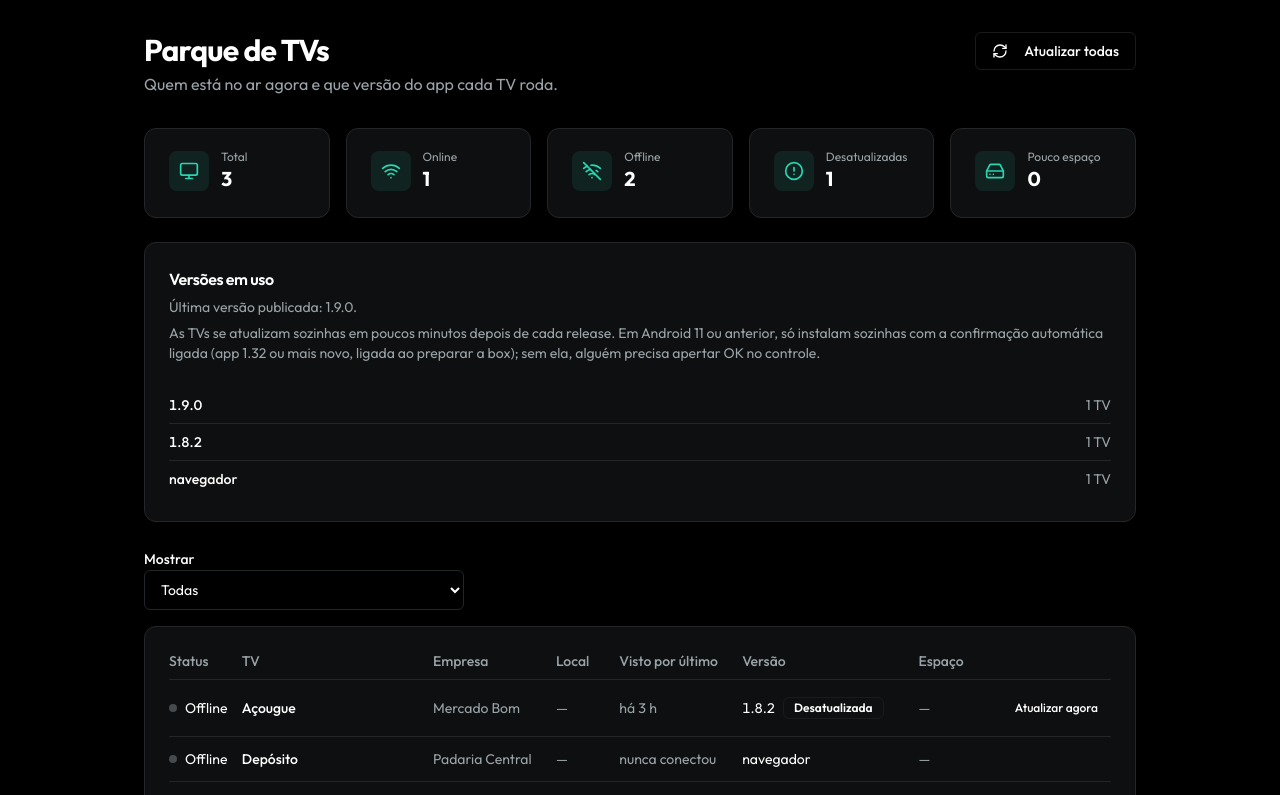
Parque de TVs › o filtro deixa só as TVs pedidas
This screenshot has width=1280, height=795.
Select "Desatualizadas" in the dropdown labelled "Mostrar" at (304, 590), box [144,570,464,610]
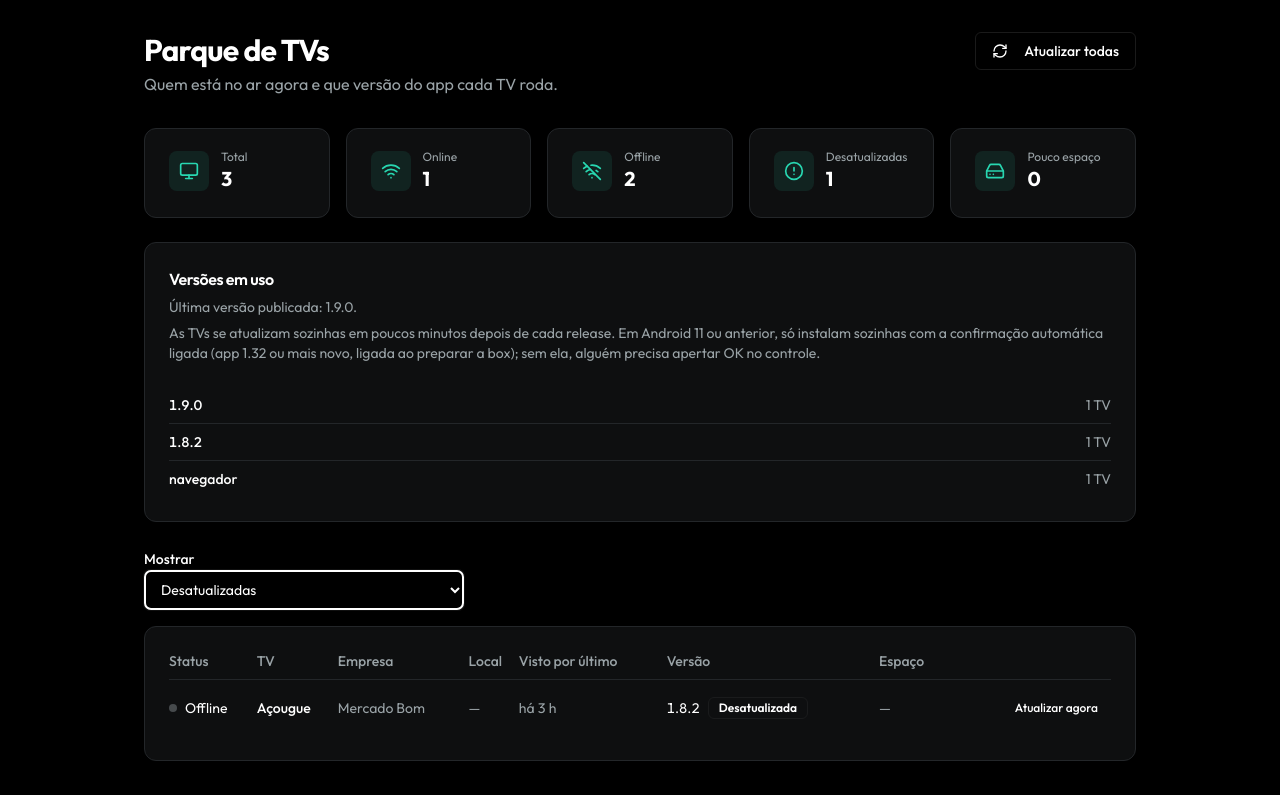
expect the row with test id "fleet-row-2" is shown: met, box [169,680,1111,736]
Select "Online" in the dropdown labelled "Mostrar" at (304, 590), box [144,570,464,610]
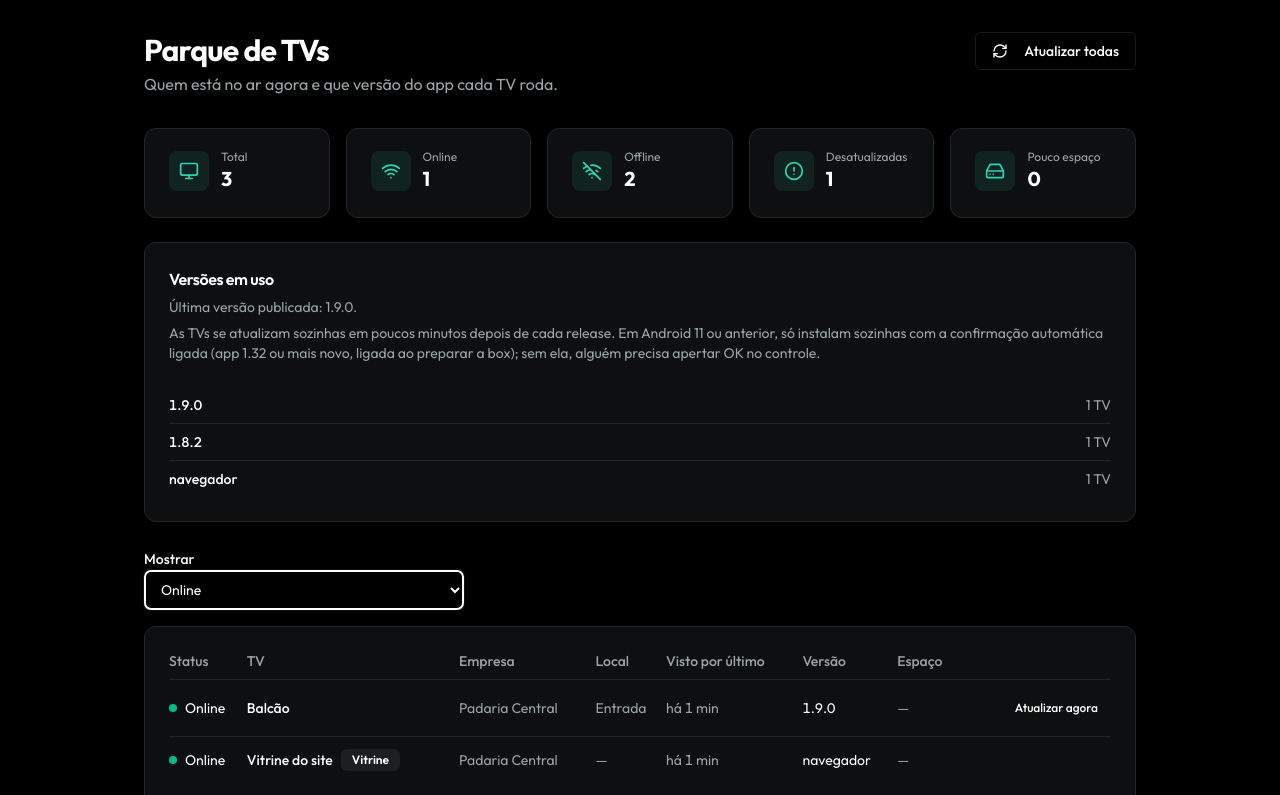
expect the row with test id "fleet-row-2" is gone: met
expect the row with test id "fleet-row-1" is shown: met, box [169,680,1111,736]
